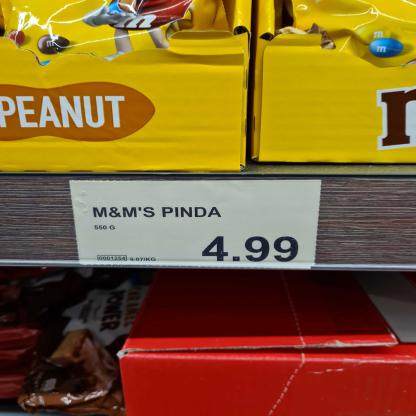prtg: (69, 179, 324, 271)
